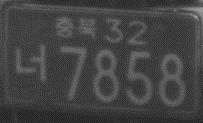2: (127, 19, 149, 45)
3: (103, 17, 123, 43)
5: (125, 50, 153, 105)
7: (58, 46, 87, 100)
8: (92, 49, 120, 102), (159, 53, 185, 107)
너: (14, 44, 47, 81)
충북_O: (55, 16, 96, 40)
